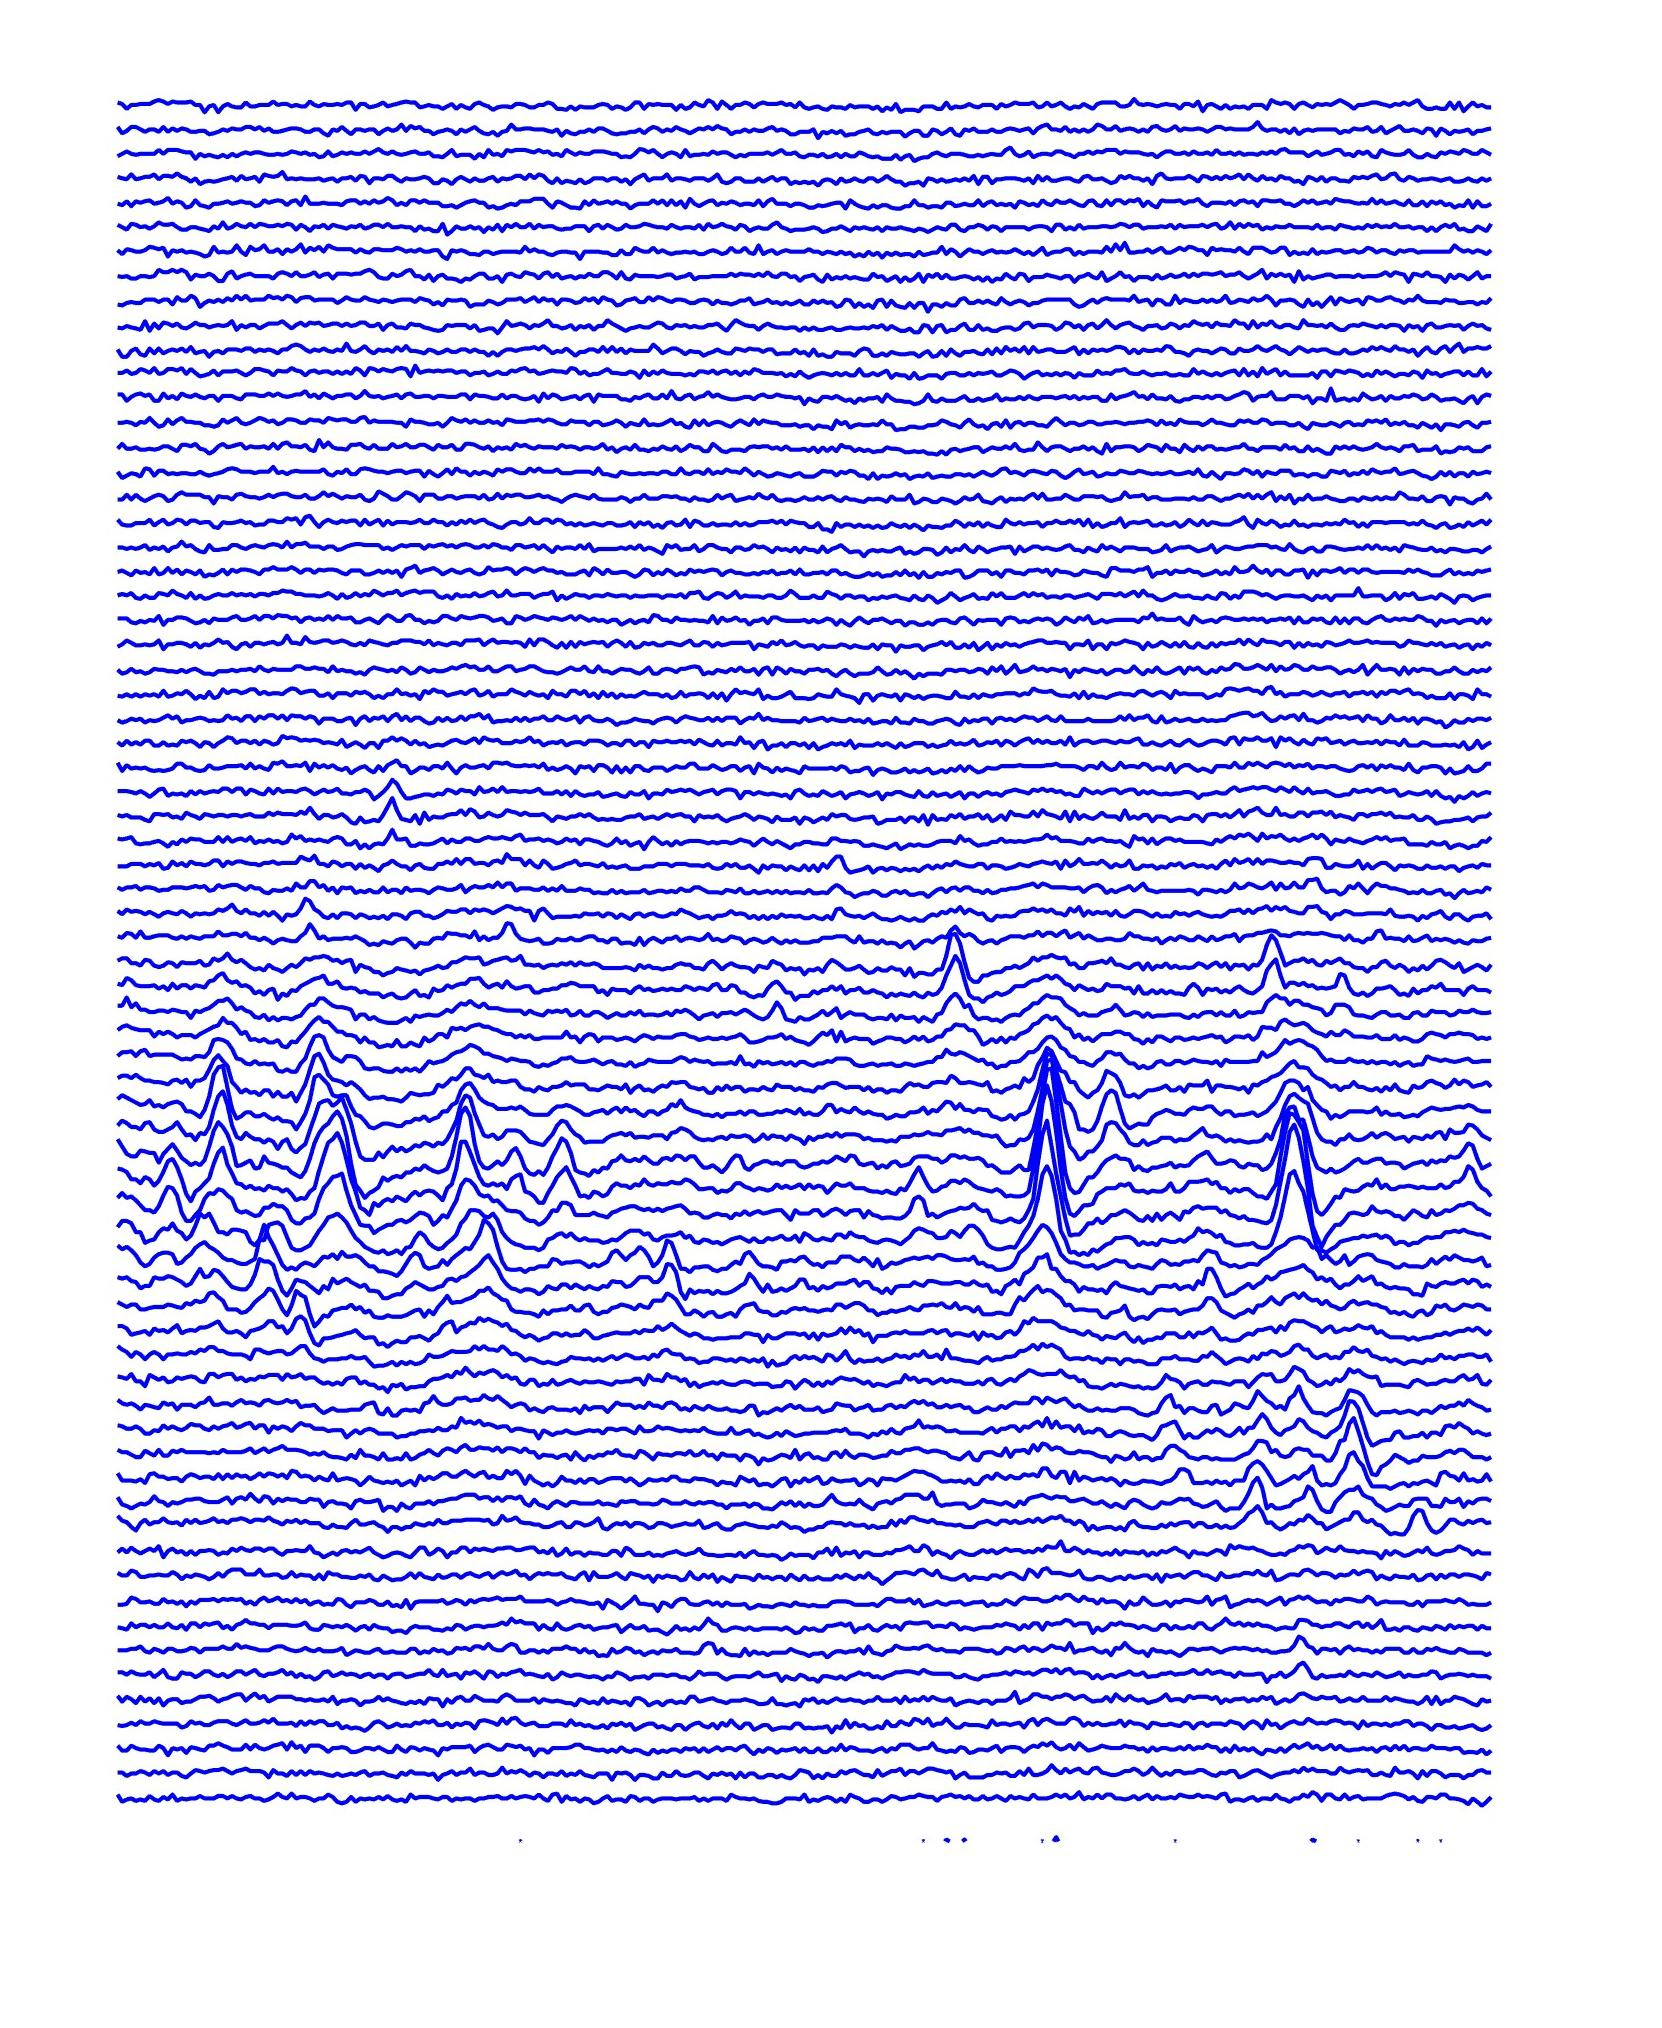defect: (993, 1029, 1121, 1257), (278, 1046, 392, 1233), (1248, 1080, 1350, 1270), (231, 1211, 333, 1380), (200, 1038, 263, 1171), (1234, 1359, 1278, 1540), (1431, 1103, 1485, 1246), (1329, 1378, 1381, 1519), (434, 1070, 492, 1196), (360, 751, 426, 859), (923, 930, 1002, 1017), (633, 1226, 694, 1327), (463, 1209, 519, 1314), (887, 1142, 940, 1246), (539, 1102, 584, 1219), (1249, 916, 1288, 1016), (1322, 969, 1362, 1046)
